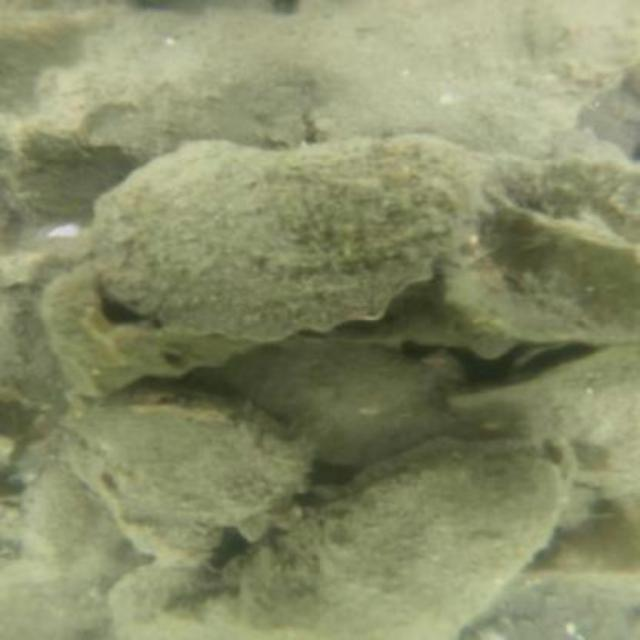Oyster-Closed: (87, 136, 486, 345), (243, 440, 578, 629), (435, 155, 638, 345), (68, 393, 310, 551), (216, 340, 451, 463), (454, 347, 638, 486)
Oyster-Open: (34, 254, 267, 403), (507, 337, 606, 380)
